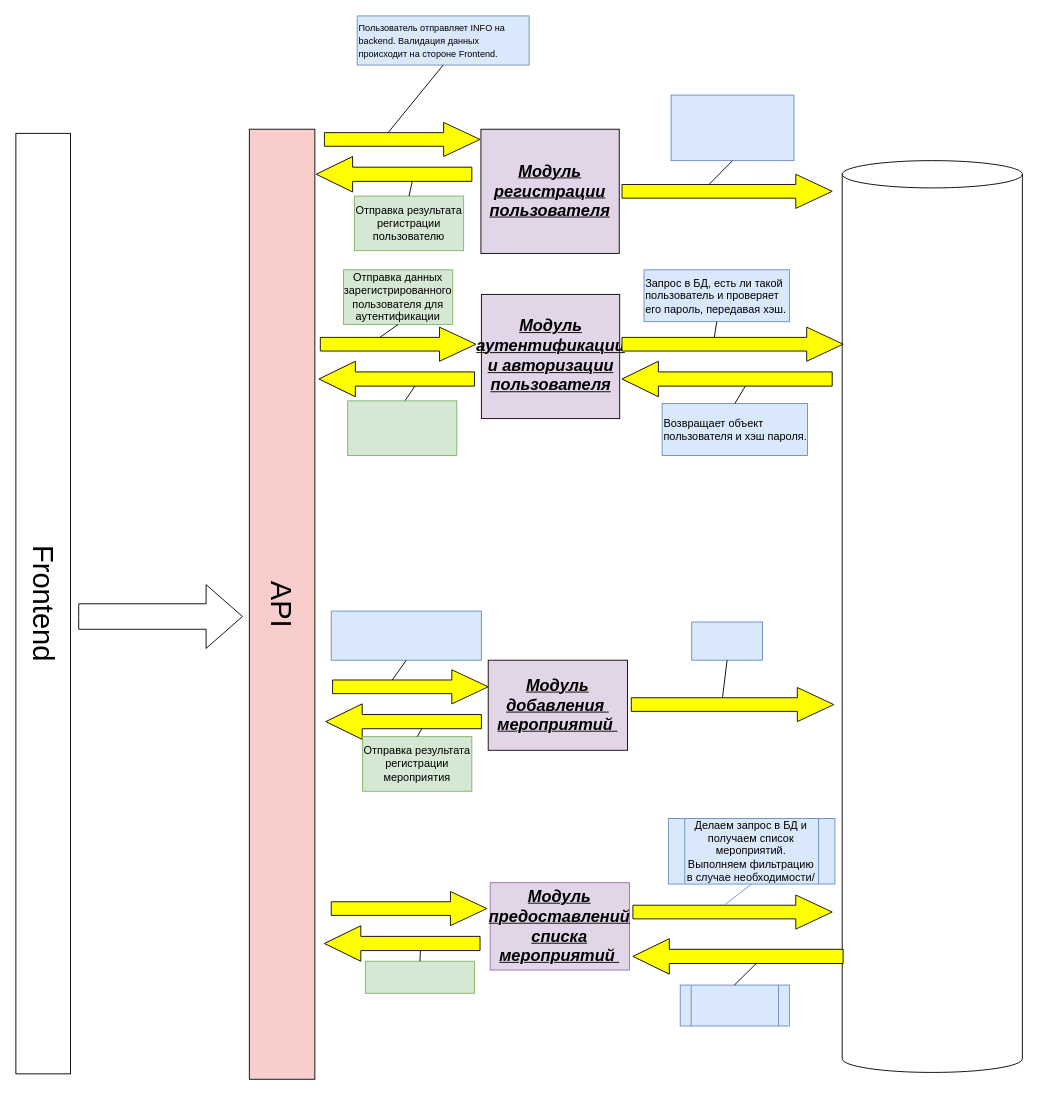
Image size: 1039x1096. Some labels were removed from this diagram. The centre of each missing label's shape, as x and y in pixels:
"Event.add()" belongs at (726,640).
"User.add() Organizer.add() Admin.add()" belongs at (732,127).
"База данных PostgreSQL" belongs at (931,616).
"Организатор отправляет INFO на backend" belongs at (405,635).
"Отправка результата аутентификации пользователя" belongs at (402,427).
"Список мероприятий" belongs at (419,976).
"Тестирование и обработка данных" belongs at (734,1005).
